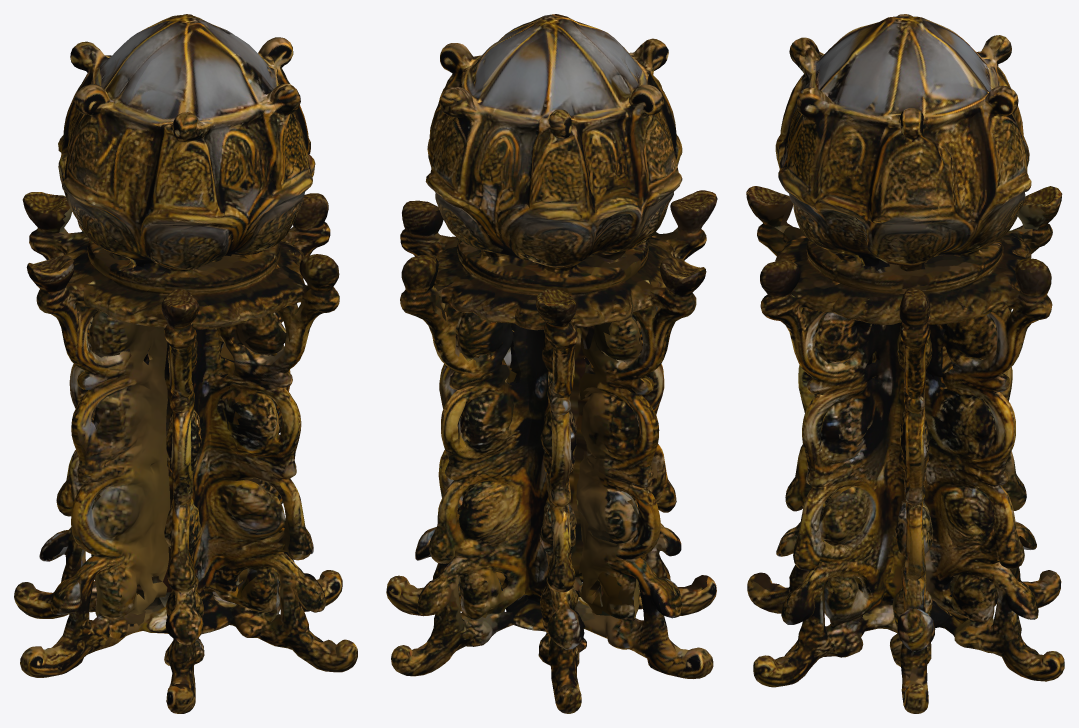
The picture shows the model from 3 angles, left to right: view 1: azimuth 30°, elevation 25°; view 2: azimuth 150°, elevation 25°; view 3: azimuth 270°, elevation 25°; orthographic projection.
Parts seen in each view (by area): view 1: textured_mesh; view 2: textured_mesh; view 3: textured_mesh.
Part boxes in pixels (left/top/right/bottom): textured_mesh: left=14, top=14, right=357, bottom=713; textured_mesh: left=386, top=14, right=717, bottom=713; textured_mesh: left=746, top=14, right=1064, bottom=713.
Bounding box in the file's own units: 1.07 × 1.99 × 0.9177.
1 material, 1 textured.
